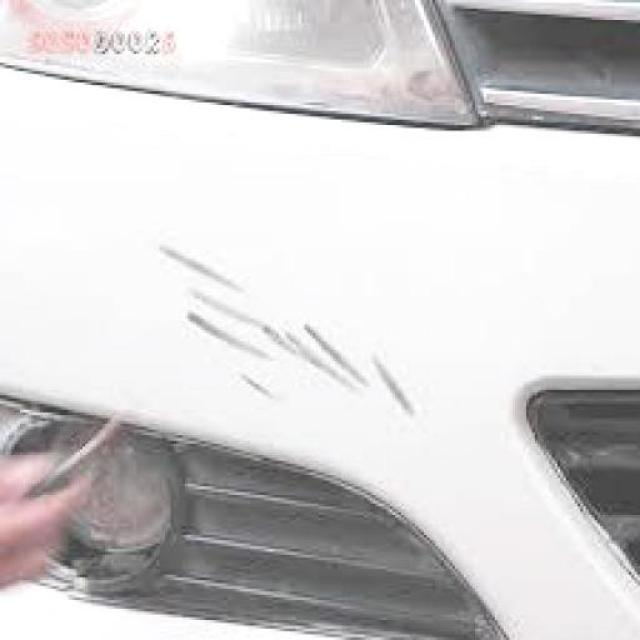Car-Damage: (154, 245, 424, 424)
